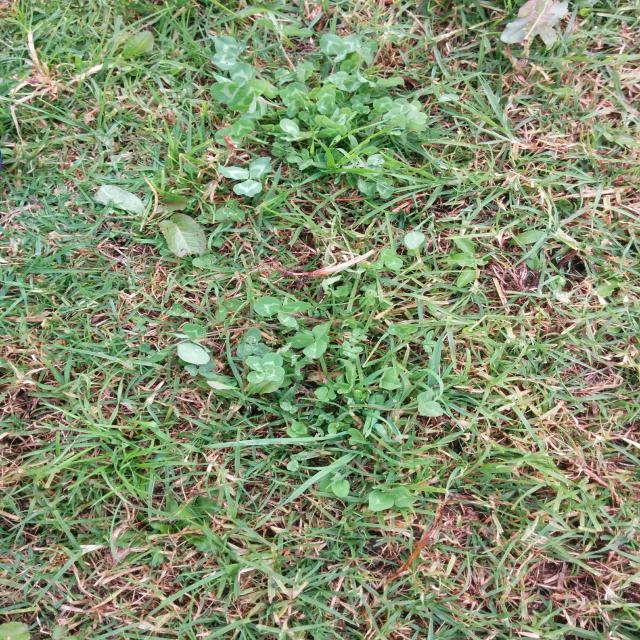Four Leaf Clover: (245, 352, 285, 383)
